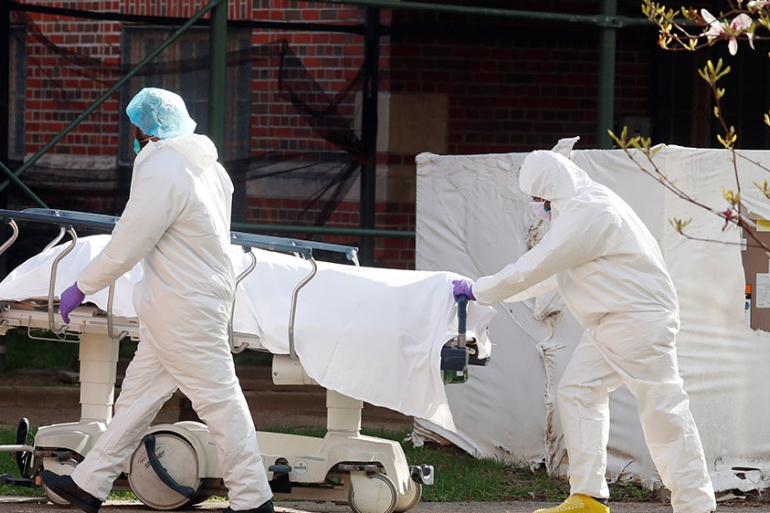Coverall: (70, 83, 278, 513), (474, 145, 704, 513)
Gloves: (447, 272, 485, 301), (60, 280, 83, 326)
with_mask: (528, 195, 554, 223)
